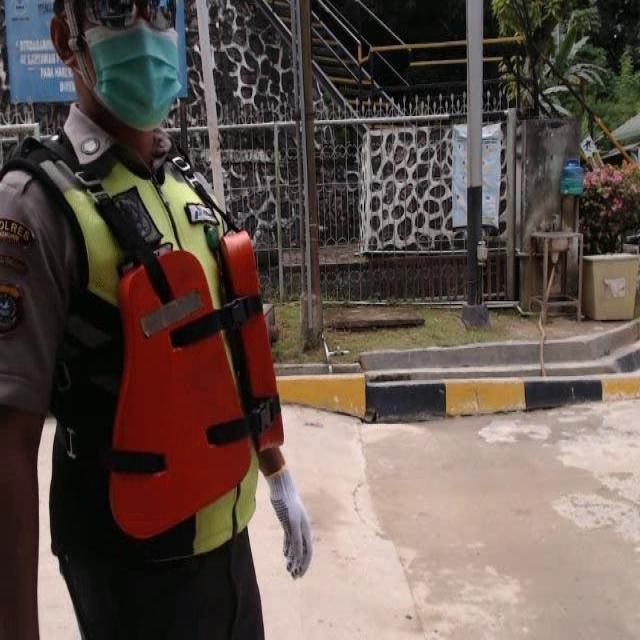Vest: (104, 224, 286, 541)
